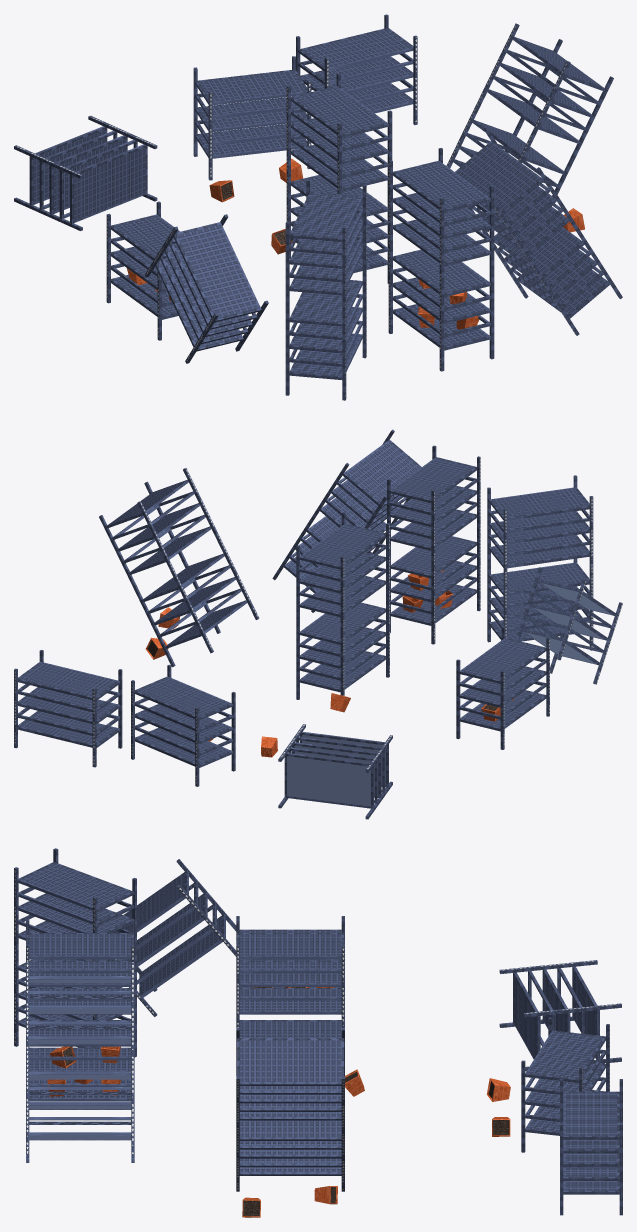
Rendered from pot room.fbx.
3 views of the same model, one above another, from view 1: azimuth 30°, elevation 25°; view 2: azimuth 150°, elevation 25°; view 3: azimuth 270°, elevation 25° (orthographic). The views are drawn at different scales.
Parts seen in each view (by area): view 1: Cube.565, Cube.571, Cube.567, Cube.570, Cube.566, Cube.556, Cube.561, Cube.569, Cube.560, Cube.559, Cube.568, Cube.562 (+3 smaller); view 2: Cube.561, Cube.569, Cube.571, Cube.570, Cube.566, Cube.558, Cube.567, Cube.557, Cube.556, Cube.560, Cube.555, Cube.568 (+3 smaller); view 3: Cube.568, Cube.566, Cube.561, Cube.565, Cube.569, Cube.567, Cube.570, Cube.555, Cube.571, Cube.556, Cube.560, Cube.562 (+3 smaller).
Part boxes in pixels (box(x1,y1,x2,y2)): Cube.565: box(145, 214, 268, 363); Cube.571: box(14, 115, 157, 230); Cube.567: box(388, 148, 494, 286); Cube.570: box(193, 56, 311, 180); Cube.566: box(286, 73, 392, 199); Cube.556: box(388, 246, 494, 371); Cube.561: box(285, 179, 366, 315); Cube.569: box(296, 14, 417, 124); Cube.560: box(455, 130, 581, 272); Cube.559: box(285, 270, 366, 400); Cube.568: box(475, 23, 613, 163); Cube.562: box(485, 227, 622, 335); Cube.561: box(487, 475, 593, 587); Cube.569: box(14, 650, 122, 767); Cube.571: box(278, 724, 392, 819); Cube.570: box(131, 664, 235, 786); Cube.566: box(296, 512, 389, 635); Cube.558: box(456, 626, 549, 749); Cube.567: box(387, 445, 480, 568); Cube.557: box(296, 599, 389, 699); Cube.556: box(390, 532, 480, 644); Cube.560: box(309, 429, 421, 529); Cube.555: box(135, 542, 259, 667); Cube.568: box(99, 468, 221, 593); Cube.568: box(236, 1027, 344, 1136); Cube.566: box(236, 919, 344, 1027); Cube.561: box(14, 848, 136, 987); Cube.565: box(112, 859, 236, 1016); Cube.569: box(560, 1079, 622, 1215); Cube.567: box(26, 919, 134, 1014); Cube.570: box(521, 1017, 609, 1152); Cube.555: box(236, 1120, 344, 1191); Cube.571: box(499, 960, 621, 1071); Cube.556: box(29, 1020, 131, 1101); Cube.560: box(26, 962, 134, 1057); Cube.562: box(26, 1058, 134, 1162).
Size of the model in its own units: 171 by 62.82 by 188.
16 materials, 16 textured.
